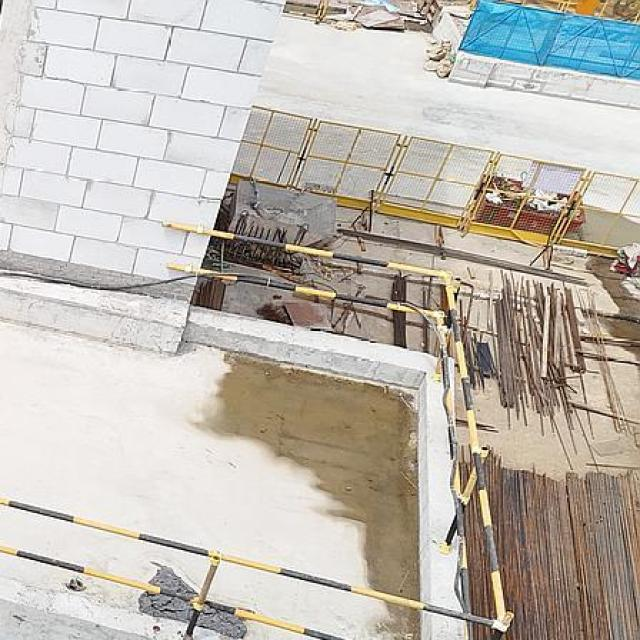Guardrail: (0, 218, 517, 640)
